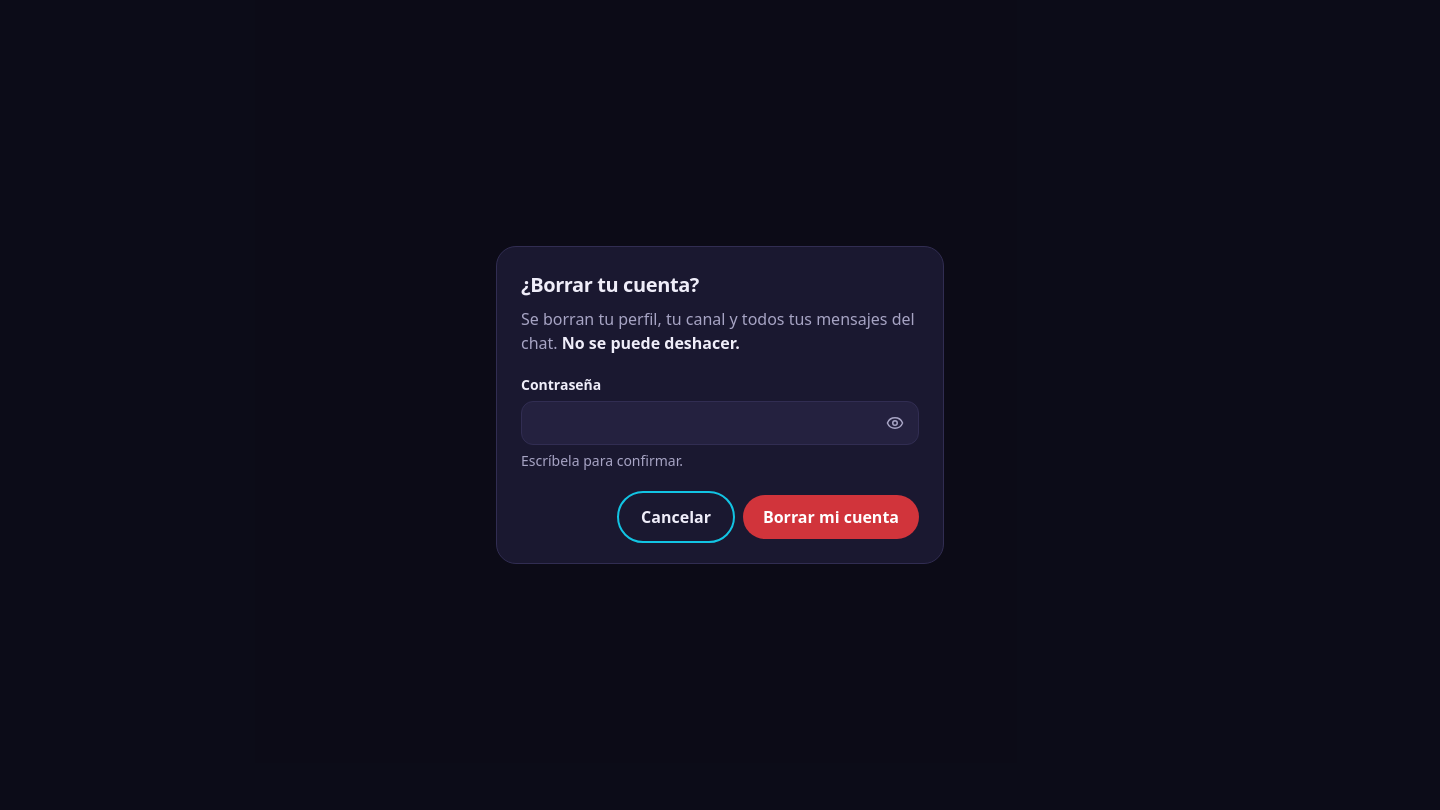
Test: DeleteAccountModal › pide la contraseña antes de enviar
The image size is (1440, 810).
Step 1. Click the button "Borrar mi cuenta" → (831, 517), box left=743, top=495, right=919, bottom=539
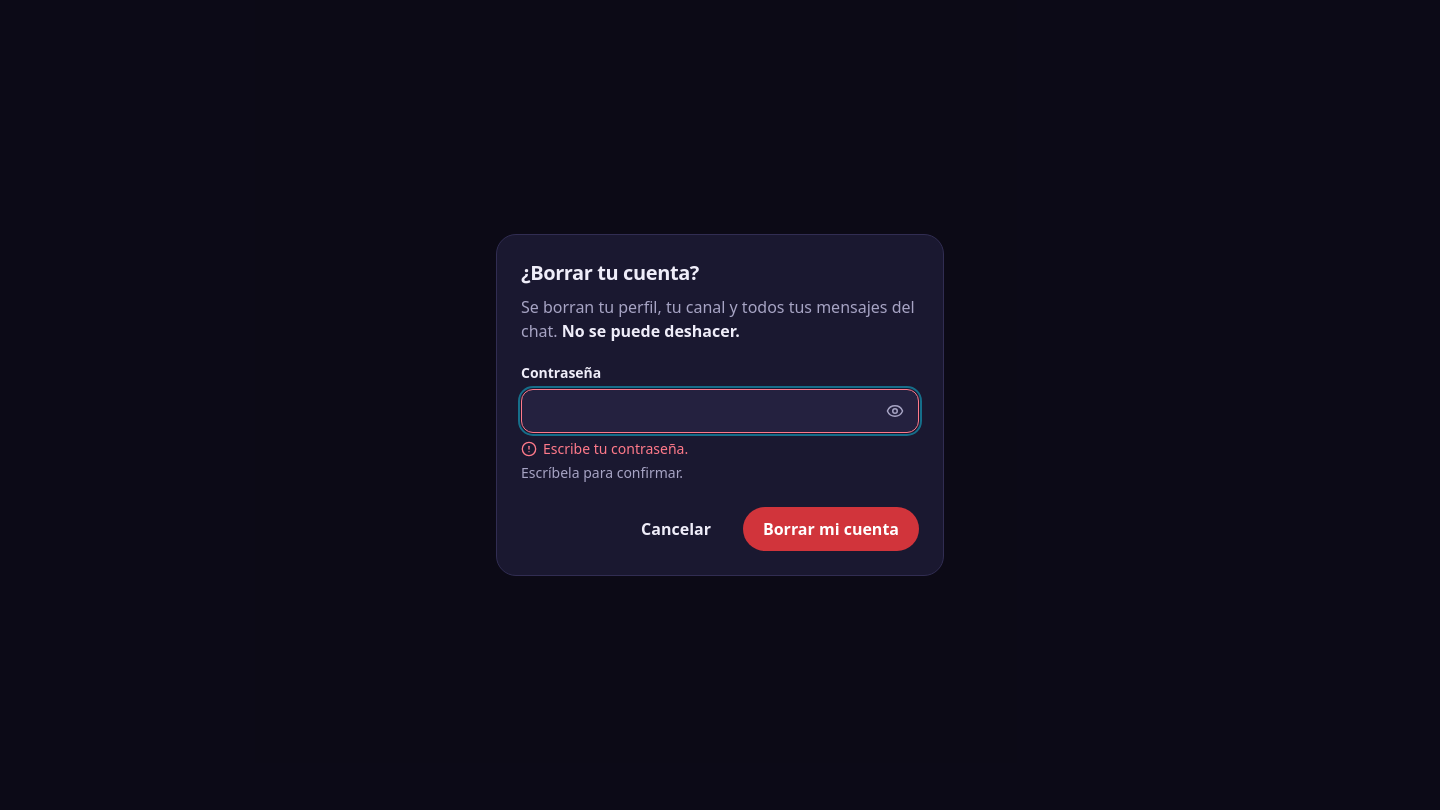
Expected: the text "Escribe tu contraseña." is shown, left=521, top=439, right=688, bottom=459
